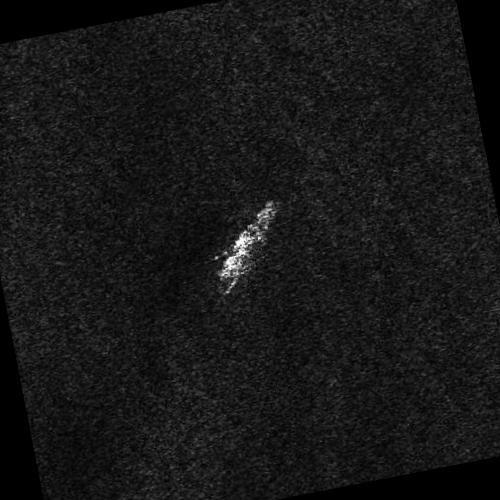ship: (218, 200, 278, 281)
